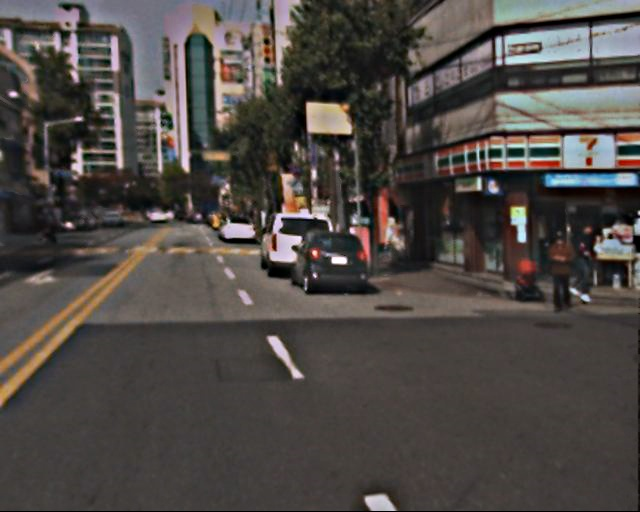person: (544, 232, 585, 315), (569, 221, 604, 302), (44, 209, 60, 248)
